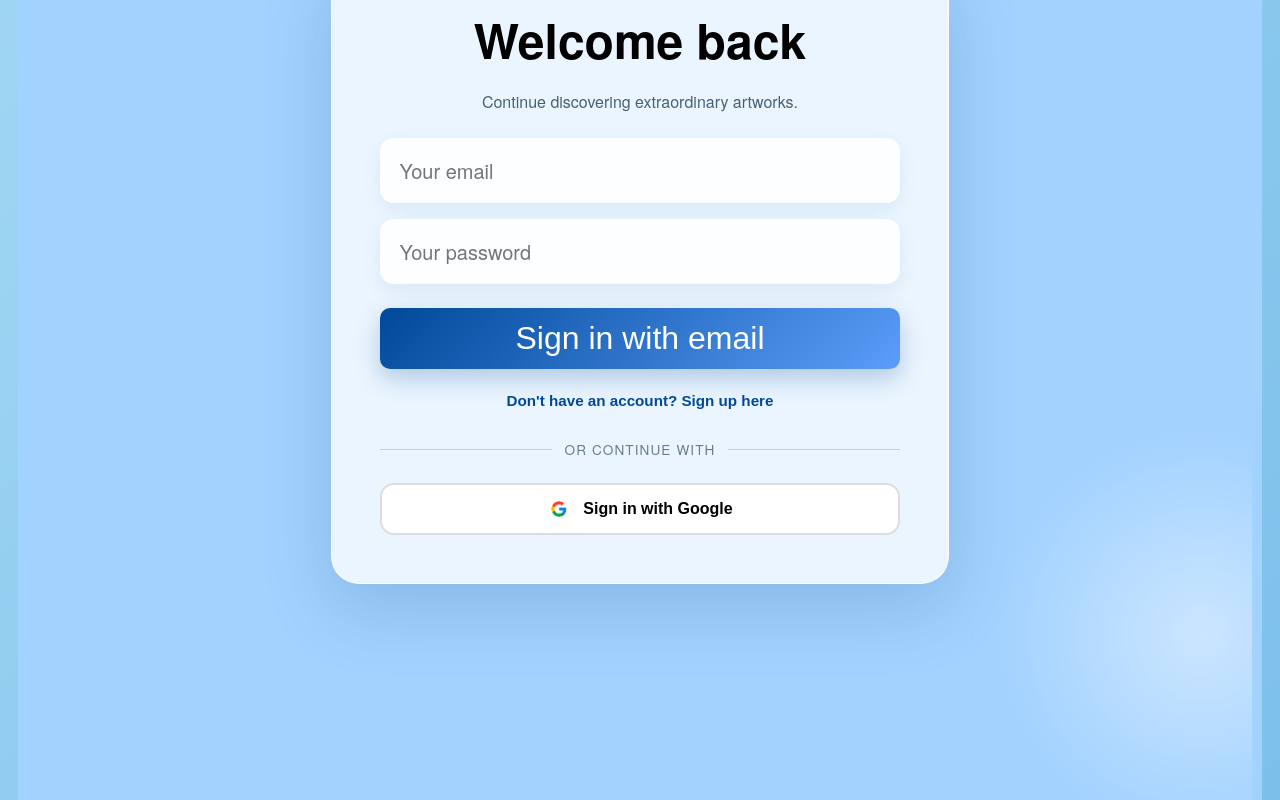
Test set for UserLogin › Test 5 => Must show error msg if the email is already register
(page scrolled)
Click the button "Don't have an account? Sign up here" at (640, 400), box [500,385,780,415]
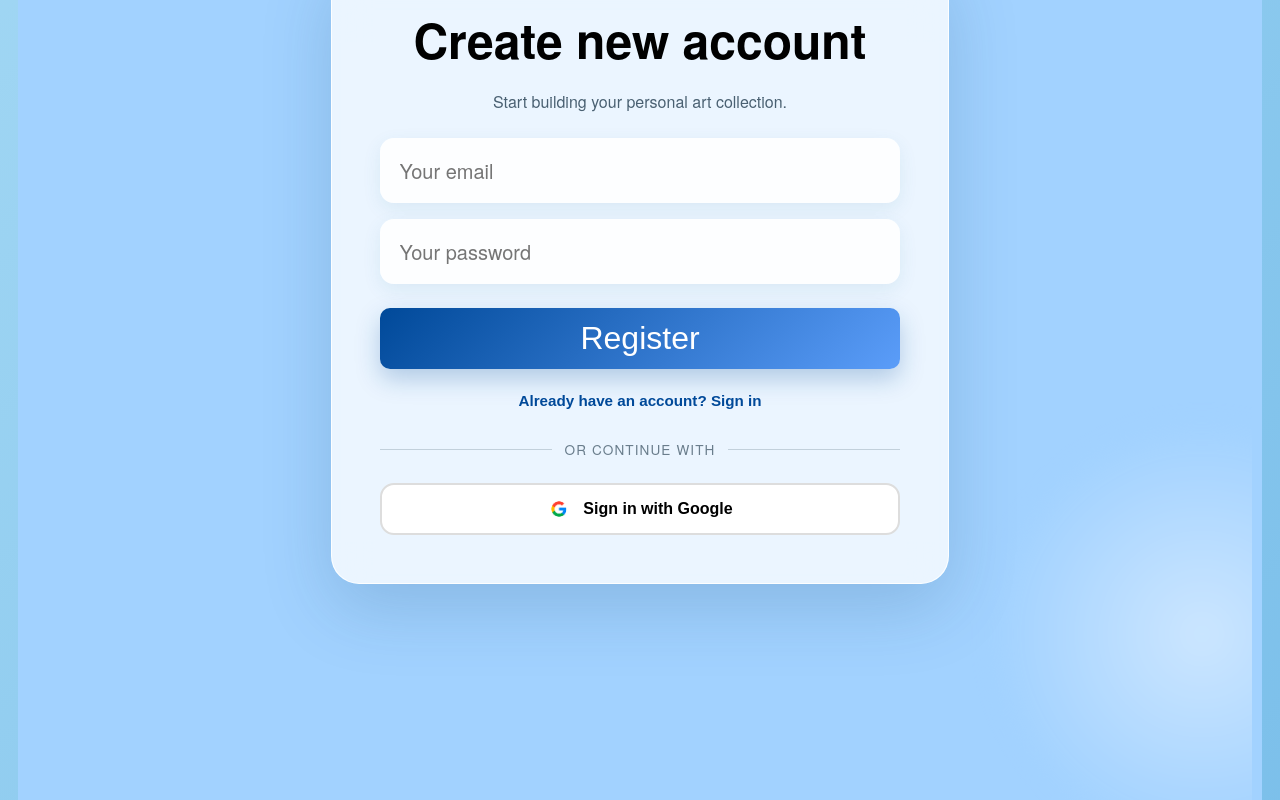
Type "registered@example.com" into the field with placeholder "Your email" at (640, 171), box [380,138,900,203]
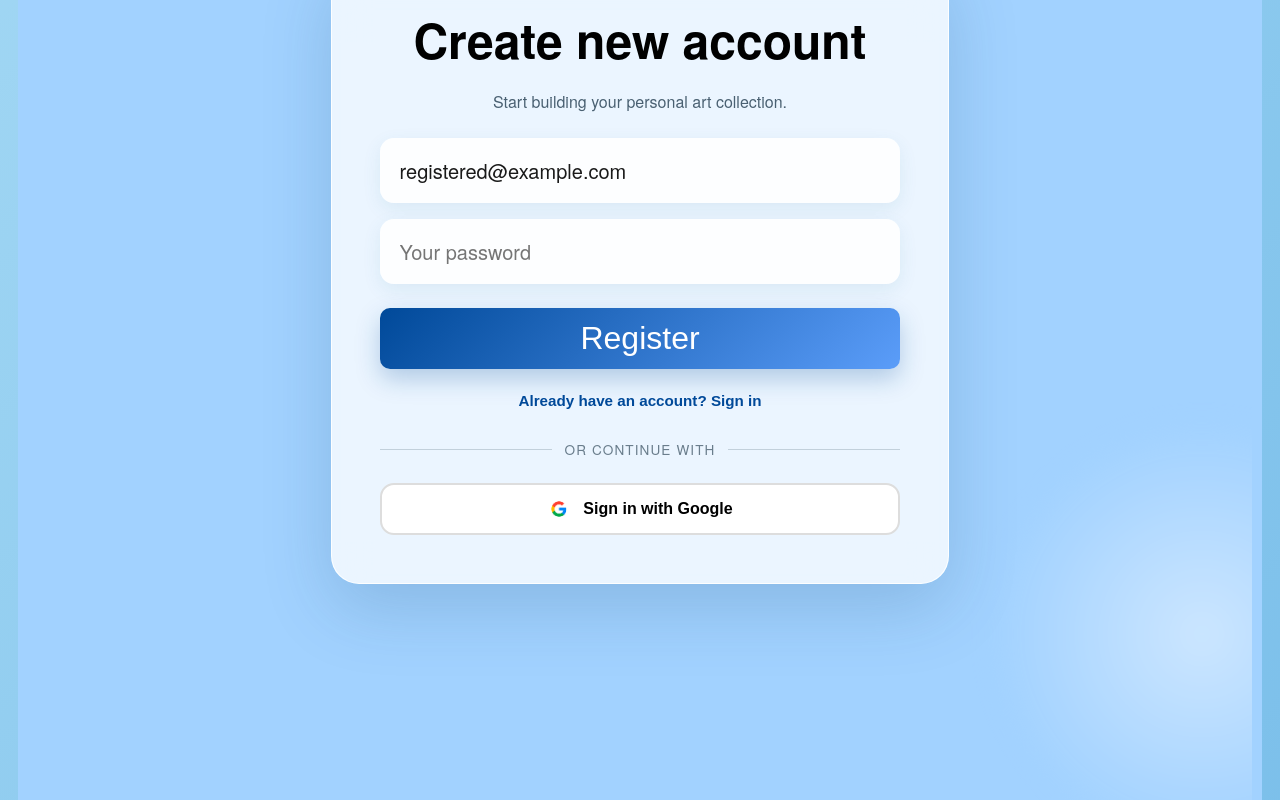
Type "password123" into the password field with placeholder "Your password" at (640, 252), box [380,219,900,284]
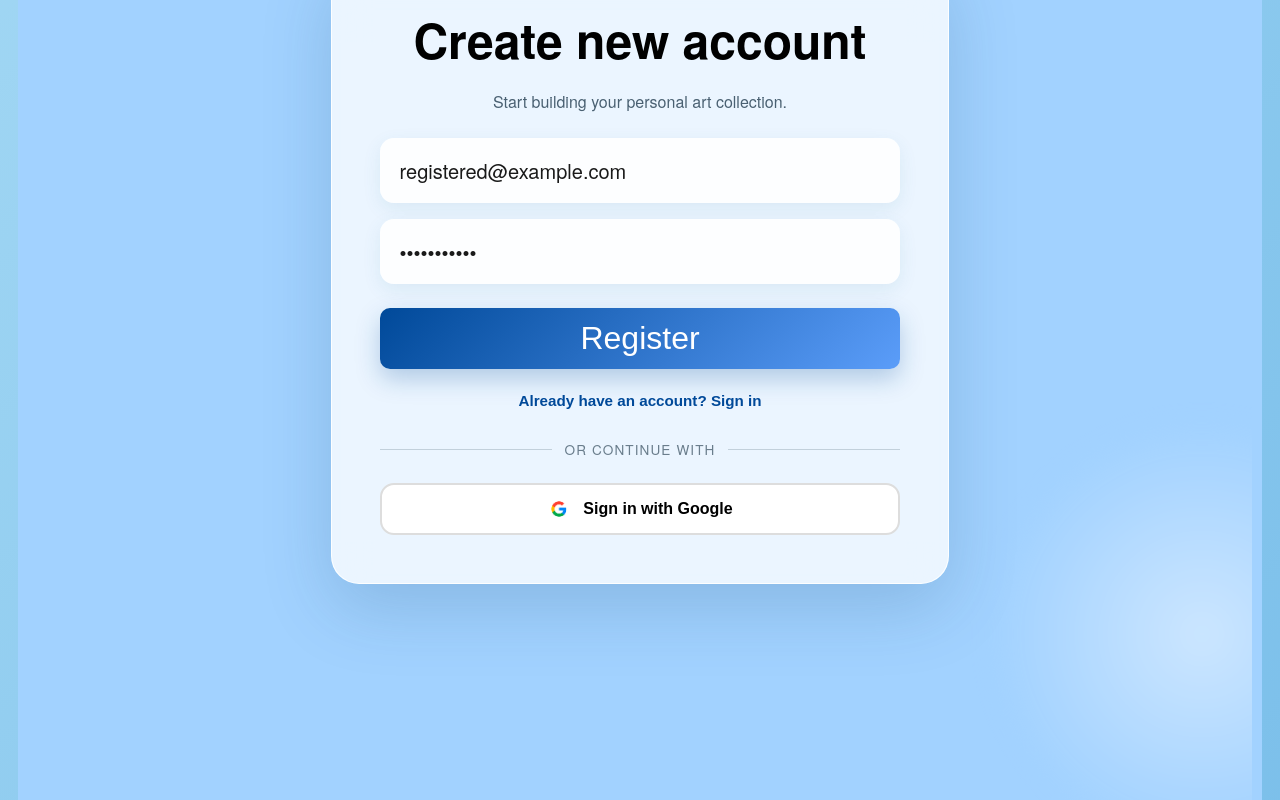
Click the button "Register" at (640, 339), box [380,308,900,369]
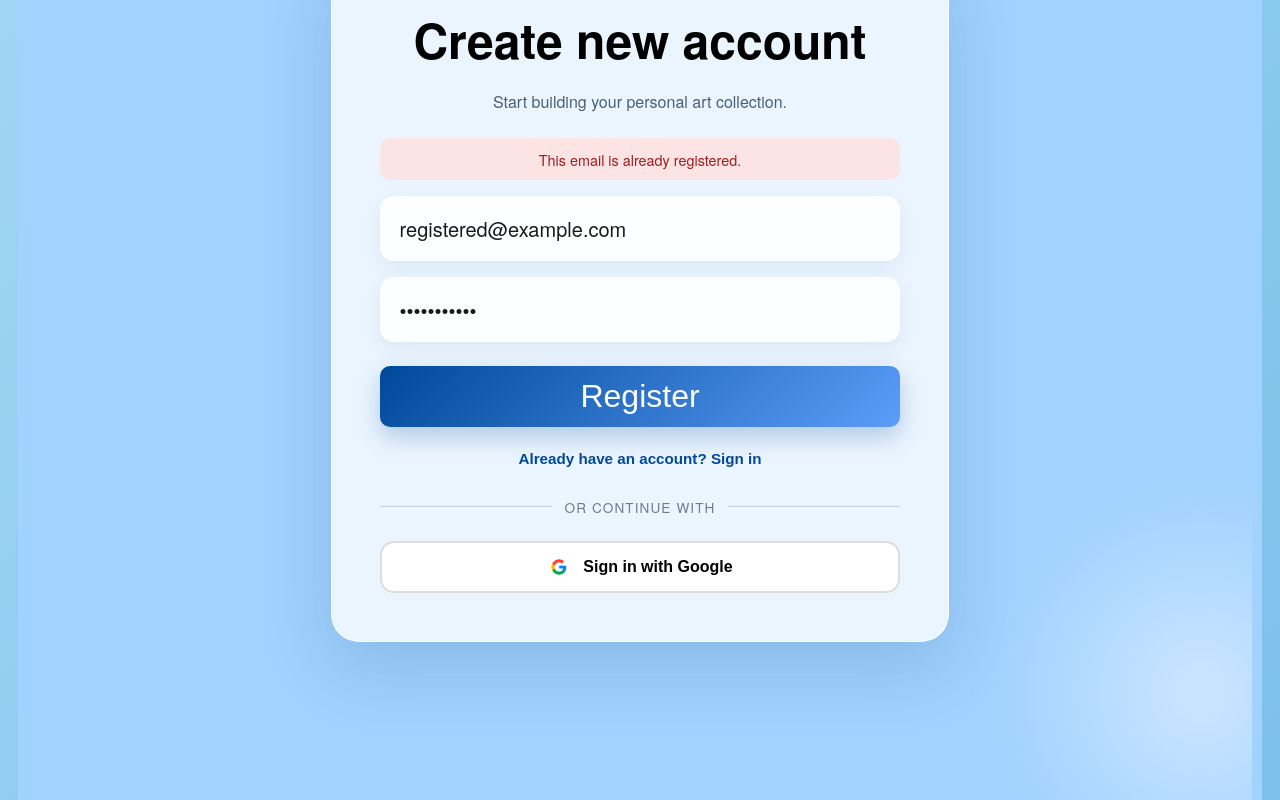
Result: the text "This email is already registered." is shown at [380,138,900,180]
